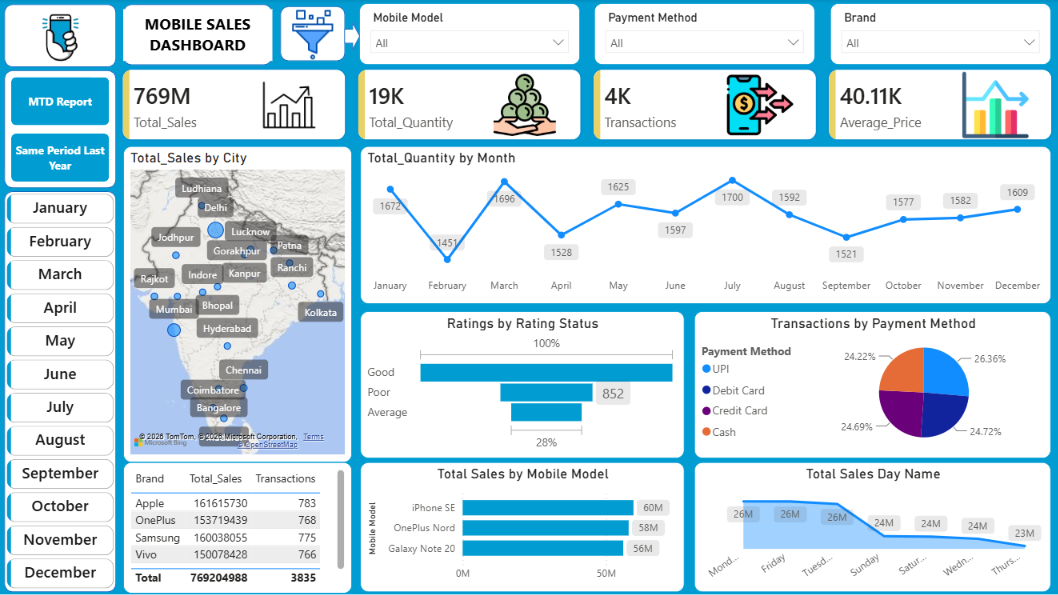

What the dashboard file says about the page in this screenshot:
{"tool":"powerbi","page":{"name":"Dashboard","canvas":[1280,720],"ordinal":0},"visuals":[{"type":"shape","box":[6,6,135.1,76],"z":0},{"type":"image","box":[27.7,13.3,92.9,63.9],"z":1000},{"type":"shape","box":[6,85.7,135.1,142.4],"z":2000},{"type":"shape","box":[6,231.6,135.1,483.8],"z":3000},{"type":"advancedSlicerVisual","fields":{"Values":["Custom_Calender.Date.Variation.Date Hierarchy.Month"]},"box":[6,231.6,135.1,483.8],"z":4000},{"type":"cardVisual","fields":{"Data":["Sales_Data.Total_Sales","Sales_Data.Total_Quantity","Sales_Data.Transactions","Sales_Data.Average_Price"]},"box":[141.2,77.2,1138.9,100.1],"z":5000},{"type":"slicer","fields":{"Values":["Sales_Data.Mobile Model"]},"box":[434.3,4.8,266.6,74.8],"z":6000},{"type":"slicer","fields":{"Values":["Sales_Data.Payment Method"]},"box":[717.8,4.8,266.6,74.8],"z":7000},{"type":"slicer","fields":{"Values":["Sales_Data.Brand"]},"box":[1002.6,4.8,266.6,74.8],"z":8000},{"type":"shape","box":[339,8.4,78.4,66.4],"z":9000},{"type":"image","box":[339,12.1,78.4,61.5],"z":10000},{"type":"shape","box":[416.2,26.5,19.3,36.2],"z":11000},{"type":"shape","box":[149.6,6,179.8,73.6],"z":12000},{"type":"textbox","box":[149.6,12.1,179.8,62.7],"z":13000},{"type":"map","fields":{"Category":["Sales_Data.City"],"Size":["Sales_Data.Total_Sales"]},"box":[149.6,177.3,276.3,381.2],"z":14000},{"type":"lineChart","fields":{"Category":["Custom_Calender.Date.Variation.Date Hierarchy.Month"],"Y":["Sales_Data.Total_Quantity"]},"box":[435.5,177.3,833.7,190.6],"z":15000},{"type":"funnel","title":"Ratings by Rating Status","fields":{"Category":["Sales_Data.Rating Status"],"Y":["CountNonNull(Sales_Data.Customer Ratings)"]},"box":[435.5,376.4,390.9,177.3],"z":16000},{"type":"pieChart","fields":{"Y":["Sales_Data.Transactions"],"Category":["Sales_Data.Payment Method"]},"box":[838.5,376.4,430.7,177.3],"z":17000},{"type":"clusteredBarChart","title":"Total Sales by Mobile Model","fields":{"Category":["Sales_Data.Mobile Model"],"Y":["Sales_Data.Total_Sales"]},"box":[435.5,558.6,390.9,156.8],"z":18000},{"type":"areaChart","title":"Total Sales Day Name","fields":{"Category":["Custom_Calender.Day Name"],"Y":["Sales_Data.Total_Sales"]},"box":[838.5,558.6,430.7,156.8],"z":19000},{"type":"tableEx","fields":{"Values":["Sales_Data.Brand","Sales_Data.Total_Sales","Sales_Data.Transactions"]},"box":[150,558,276,158],"z":20000},{"type":"pageNavigator","box":[14.5,94.1,118.2,126.7],"z":21000}]}

Visuals, with their boxes in screenshot pixels (x1, y1, x2, y2), scaled from the page's 1280x720 canvas onto the 1058x595 screenshot:
shape: locate(5, 5, 117, 68)
image: locate(23, 11, 100, 64)
shape: locate(5, 71, 117, 188)
shape: locate(5, 191, 117, 591)
advancedSlicerVisual - Custom_Calender.Date.Variation.Date Hierarchy.Month: locate(5, 191, 117, 591)
cardVisual - Sales_Data.Total_Sales x Sales_Data.Total_Quantity: locate(117, 64, 1057, 147)
slicer - Sales_Data.Mobile Model: locate(359, 4, 579, 66)
slicer - Sales_Data.Payment Method: locate(593, 4, 814, 66)
slicer - Sales_Data.Brand: locate(829, 4, 1049, 66)
shape: locate(280, 7, 345, 62)
image: locate(280, 10, 345, 61)
shape: locate(344, 22, 360, 52)
shape: locate(124, 5, 272, 66)
textbox: locate(124, 10, 272, 62)
map - Sales_Data.City x Sales_Data.Total_Sales: locate(124, 147, 352, 462)
lineChart - Custom_Calender.Date.Variation.Date Hierarchy.Month x Sales_Data.Total_Quantity: locate(360, 147, 1049, 304)
"Ratings by Rating Status" funnel: locate(360, 311, 683, 458)
pieChart - Sales_Data.Transactions x Sales_Data.Payment Method: locate(693, 311, 1049, 458)
"Total Sales by Mobile Model" clusteredBarChart: locate(360, 462, 683, 591)
"Total Sales Day Name" areaChart: locate(693, 462, 1049, 591)
tableEx - Sales_Data.Brand x Sales_Data.Total_Sales: locate(124, 461, 352, 592)
pageNavigator: locate(12, 78, 110, 182)
